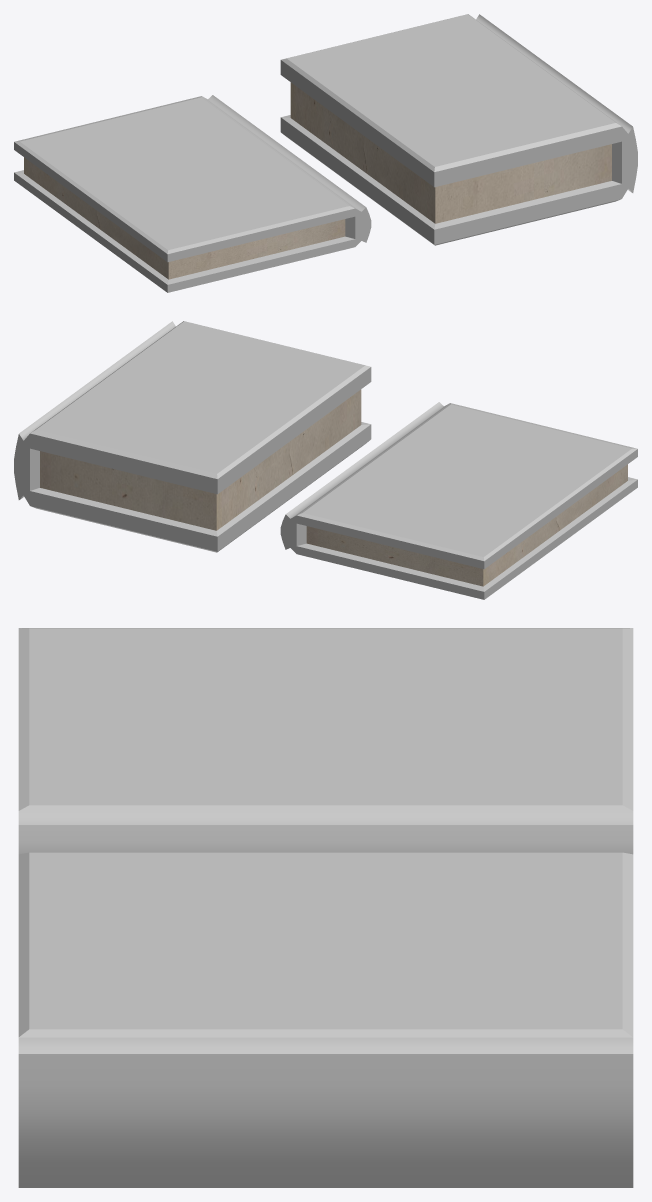
File: book_mat.fbx
3 views of the same model, one above another, from view 1: azimuth 30°, elevation 25°; view 2: azimuth 150°, elevation 25°; view 3: azimuth 270°, elevation 25° (orthographic). The views are drawn at different scales.
Visible parts, largest first — view 1: book_origin33, book_origin31; view 2: book_origin33, book_origin31; view 3: book_origin33, book_origin31.
Part boxes in pixels (left/top/right/bottom): book_origin33: left=280, top=14, right=637, bottom=245; book_origin31: left=14, top=95, right=371, bottom=292; book_origin33: left=14, top=321, right=371, bottom=552; book_origin31: left=280, top=402, right=637, bottom=599; book_origin33: left=18, top=852, right=633, bottom=1187; book_origin31: left=18, top=628, right=633, bottom=854.
Bounding box in the file's own units: 9.02 × 1.45 × 5.11.
